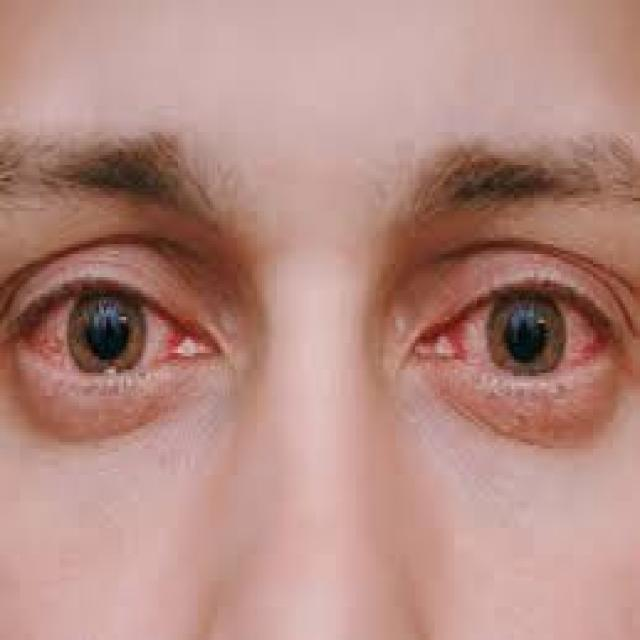Eyes-iris: (50, 274, 154, 385), (491, 294, 566, 379)
